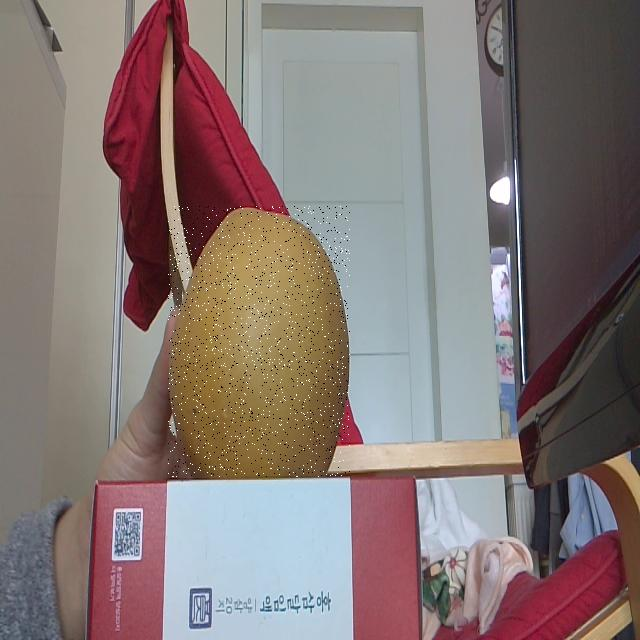pear: (168, 206, 350, 477)
